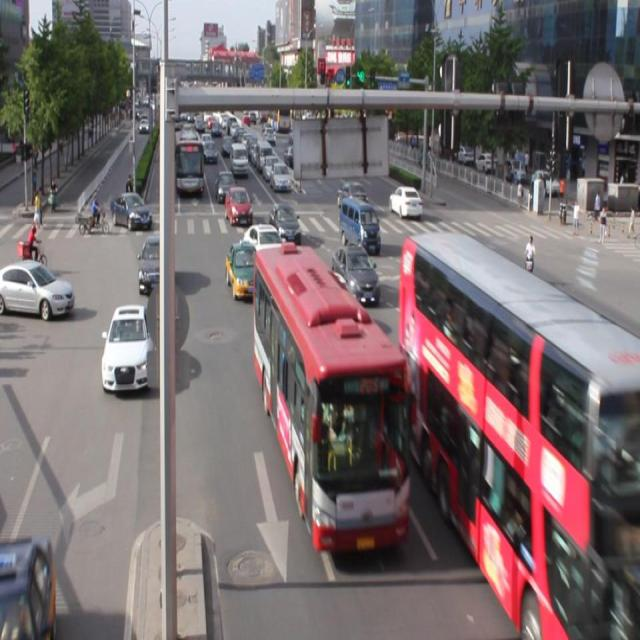car: (0, 535, 57, 640), (101, 304, 152, 392), (444, 240, 504, 310), (331, 245, 379, 305), (226, 241, 264, 301), (138, 234, 173, 296), (243, 222, 286, 268), (270, 201, 302, 246)
truck: (340, 196, 380, 252)
van: (399, 232, 640, 640), (254, 248, 407, 544)
